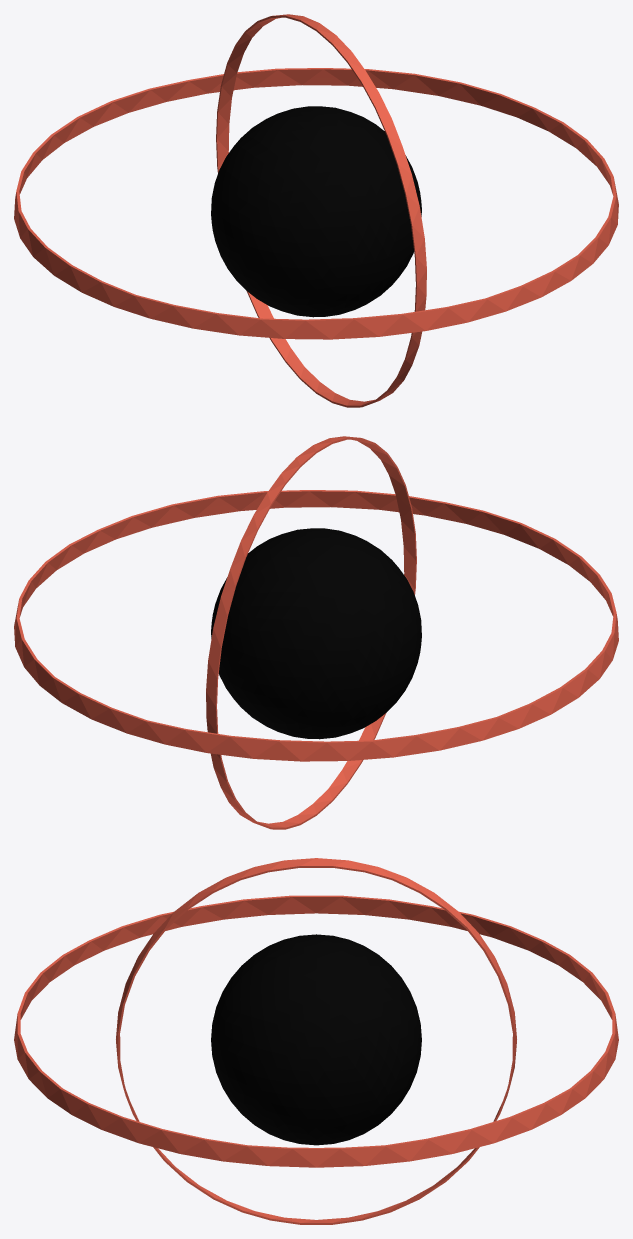
File: Planet7.fbx
3 views of the same model, one above another, from view 1: azimuth 30°, elevation 25°; view 2: azimuth 150°, elevation 25°; view 3: azimuth 270°, elevation 25° (orthographic).
Parts seen in each view (by area): view 1: Planet7; view 2: Planet7; view 3: Planet7.
Boxes of the visible parts, x1,y1,x2,y2 form: Planet7: [14, 14, 618, 407]; Planet7: [14, 436, 618, 829]; Planet7: [14, 858, 618, 1224].
Size of the model in its own units: 573 by 380 by 573.
